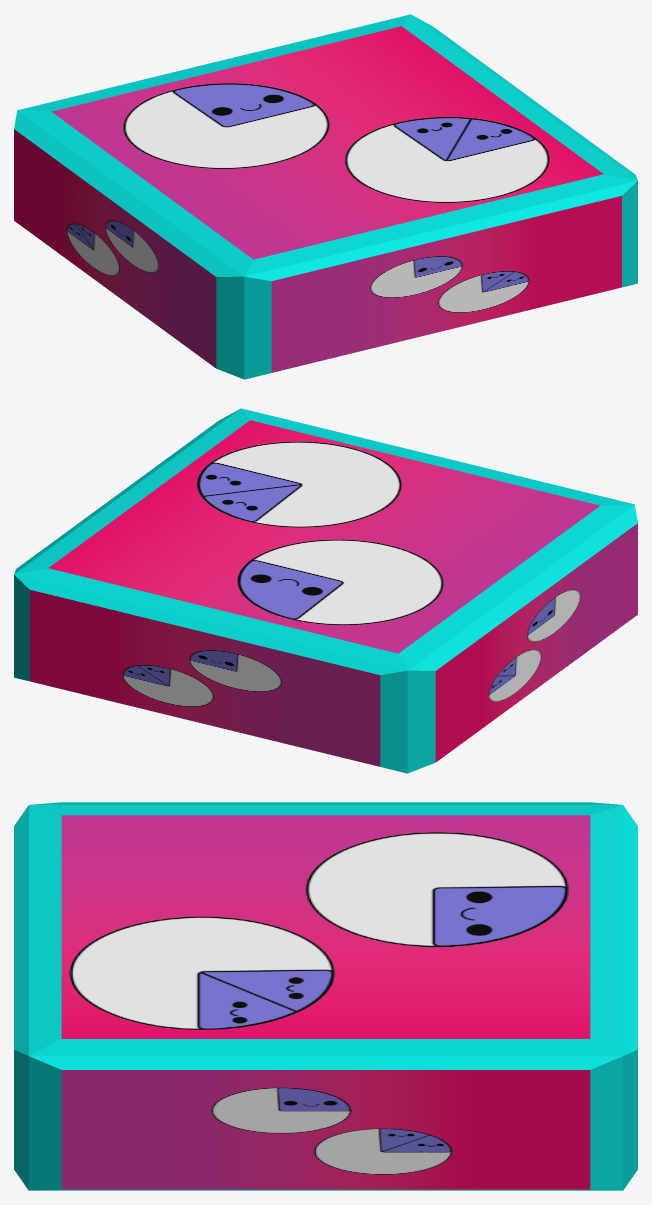
File: Fracciones dos octavos.fbx
The picture shows the model from 3 angles, top to bottom: view 1: azimuth 30°, elevation 25°; view 2: azimuth 150°, elevation 25°; view 3: azimuth 270°, elevation 25°; orthographic projection. The views are drawn at different scales.
Parts seen in each view (by area): view 1: 2/8; view 2: 2/8; view 3: 2/8.
Part boxes in pixels (x1,y1,x2,y2): 2/8: [14, 14, 637, 379]; 2/8: [14, 408, 637, 773]; 2/8: [14, 802, 637, 1190].
Bounding box in the file's own units: 213 × 52.5 × 210.
Materials: 2 (1 with a texture image).
